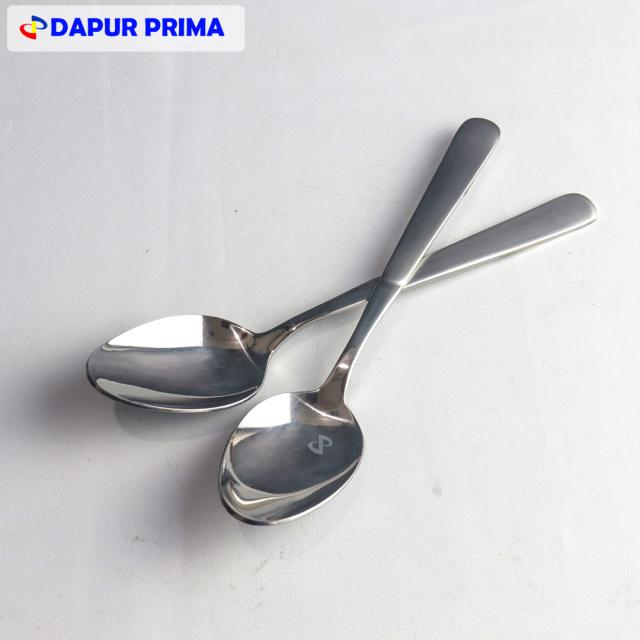spoon: (60, 189, 614, 413)
